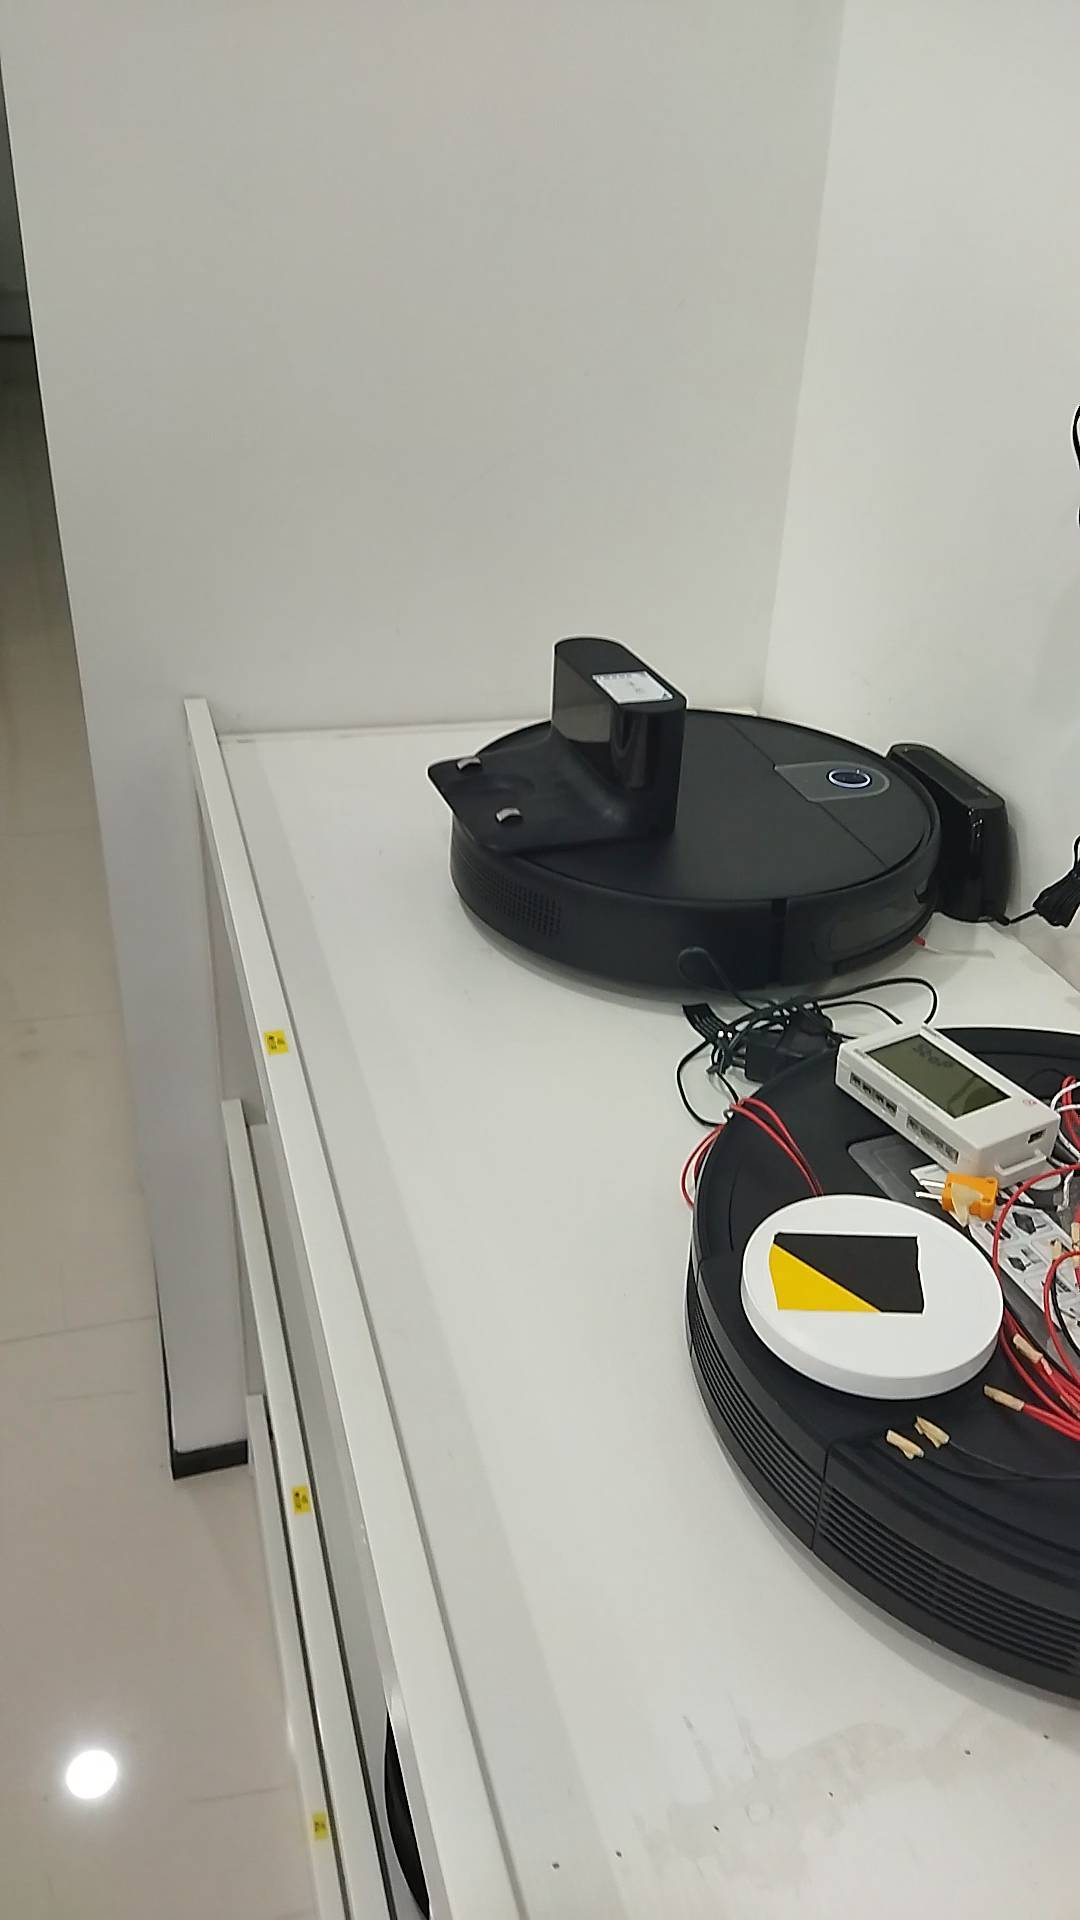recharge seat: (425, 637, 690, 858), (885, 737, 1013, 924)
